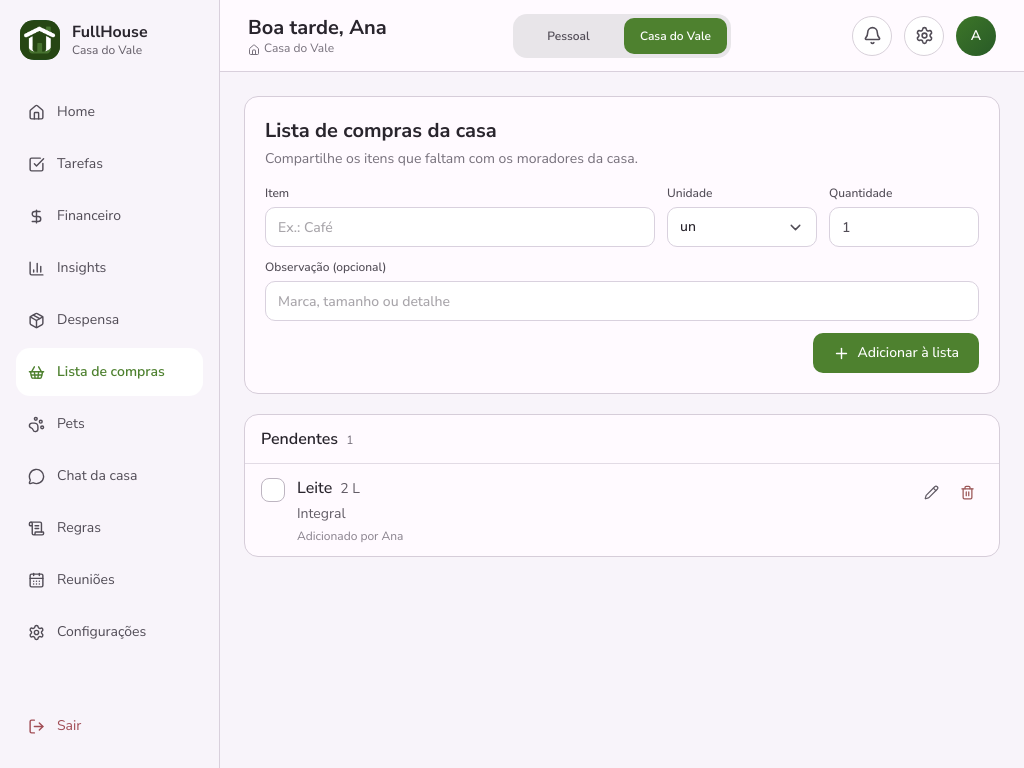
Test: ShoppingListPage › warns about accent-insensitive pending duplicates and lets the user override
Later steps or results of the test are not shown.
Check: the text "Leite" is shown, box left=297, top=476, right=332, bottom=500
Type "leité" into the field with placeholder "Ex.: Café".
click(460, 227); type("leité")  # box left=265, top=207, right=655, bottom=247
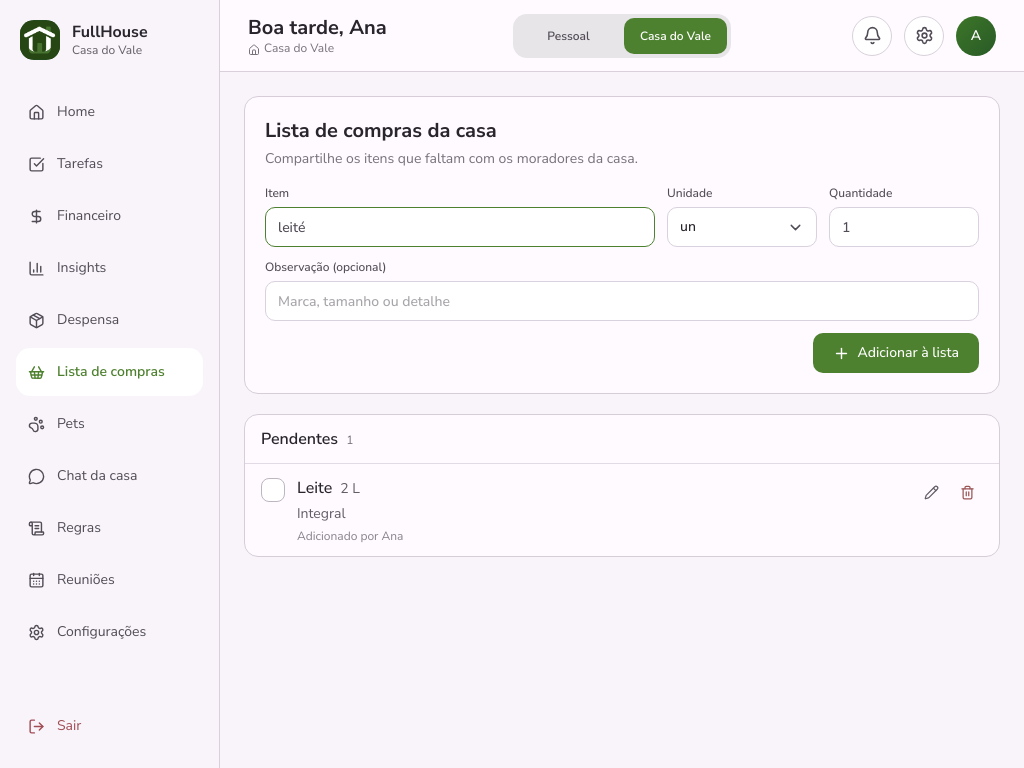
Click the button "Adicionar à lista".
click(896, 353)  # box left=813, top=333, right=979, bottom=373
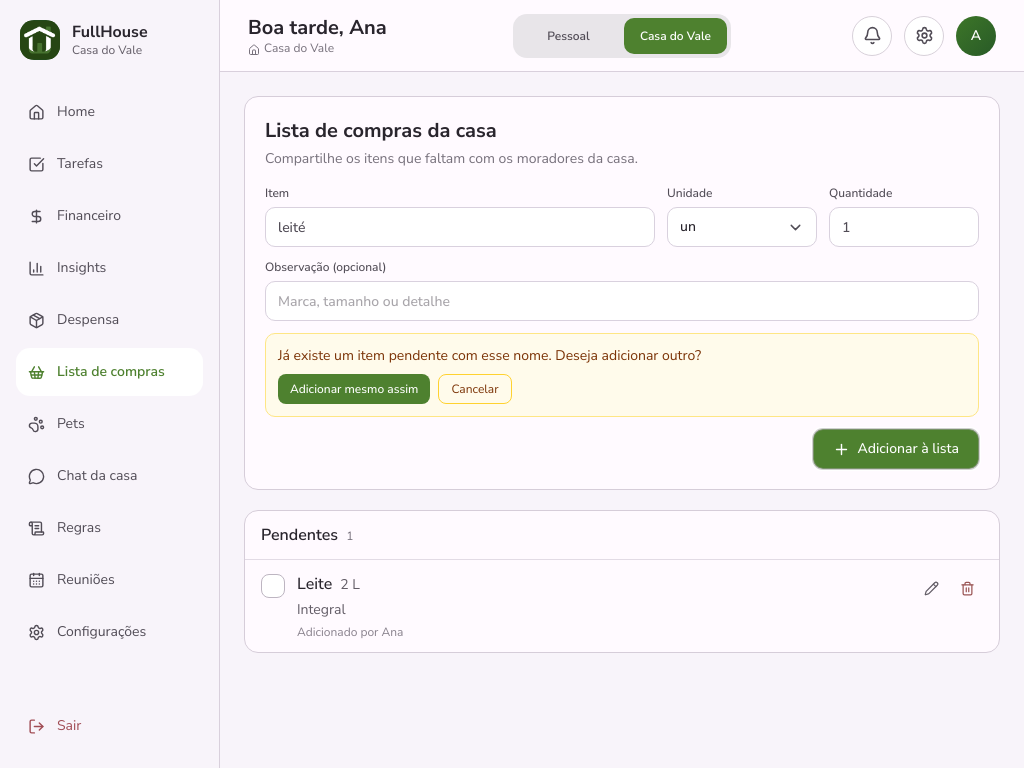
Check: the text "Já existe um item pendente" is shown, box left=278, top=346, right=701, bottom=365
Click the button "Cancelar".
click(475, 389)  # box left=438, top=374, right=512, bottom=404
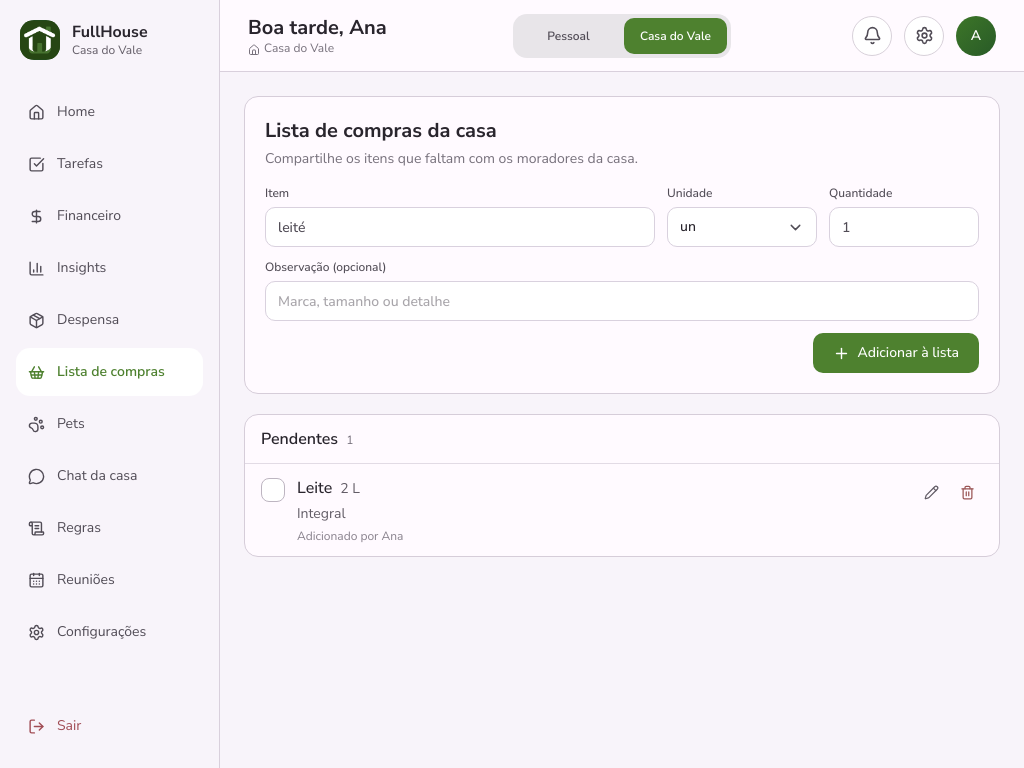
Click the button "Adicionar à lista".
click(896, 353)  # box left=813, top=333, right=979, bottom=373
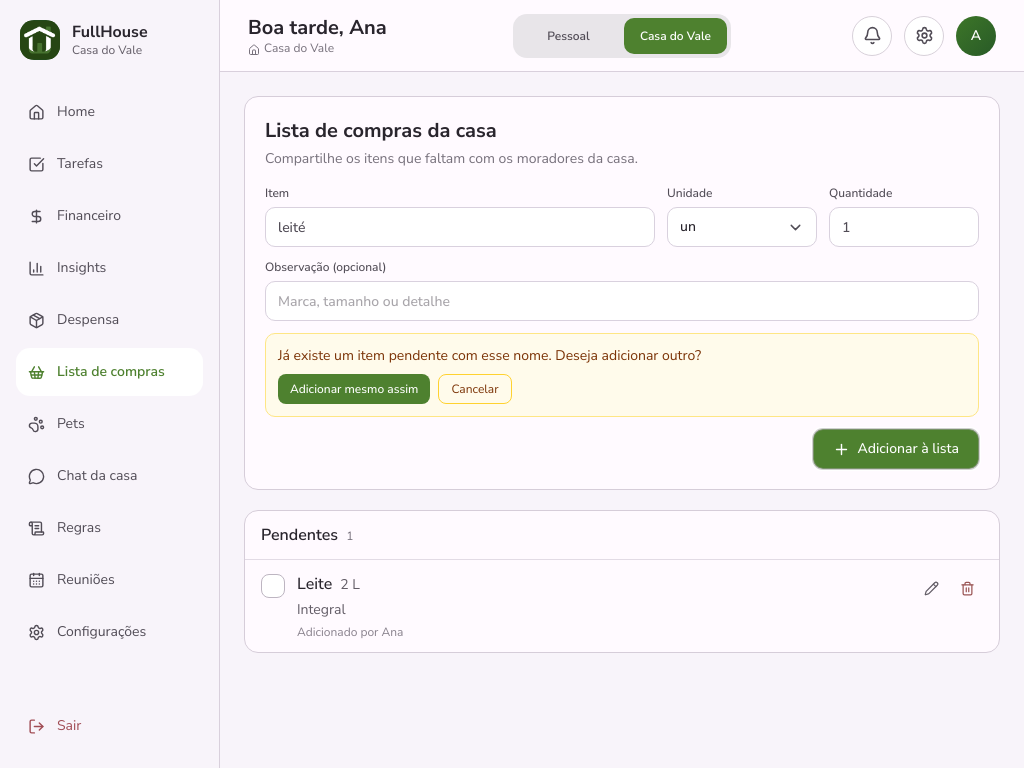
Check: the button "Adicionar mesmo assim" is shown, box left=278, top=374, right=430, bottom=404
